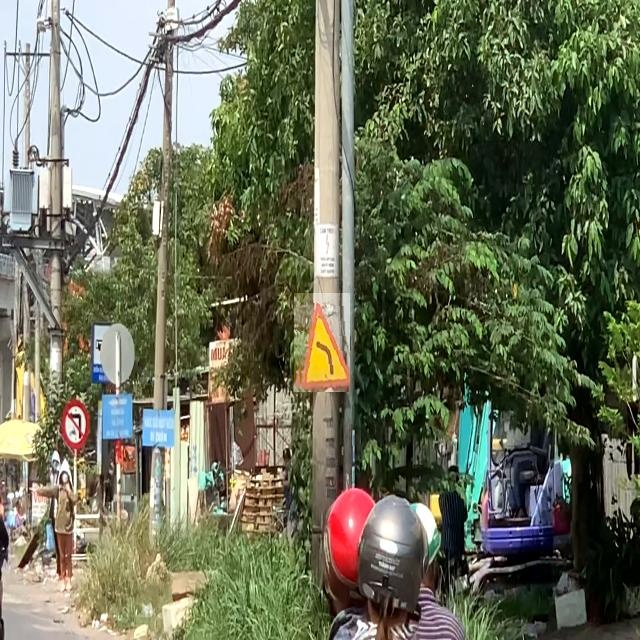bien_nguy_hiem: (294, 293, 350, 392)
